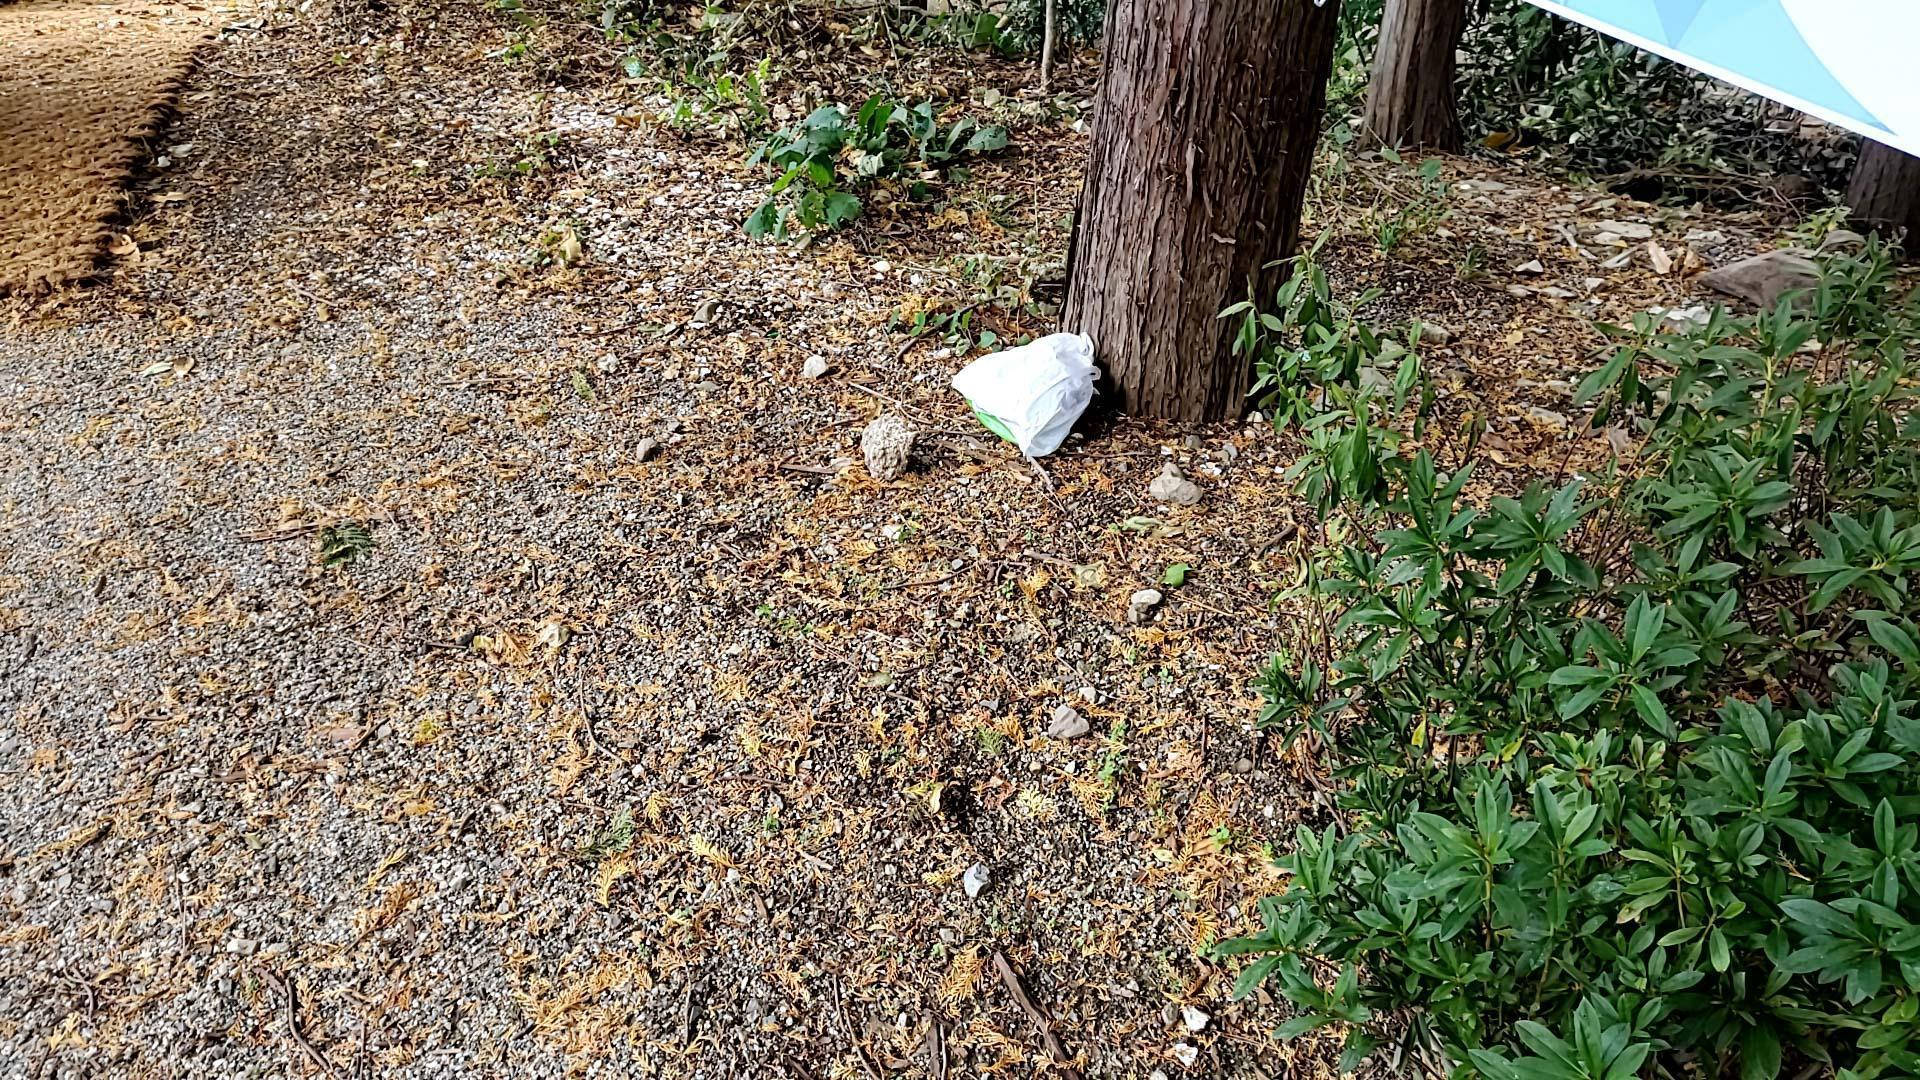white_bag: (943, 324, 1116, 465)
